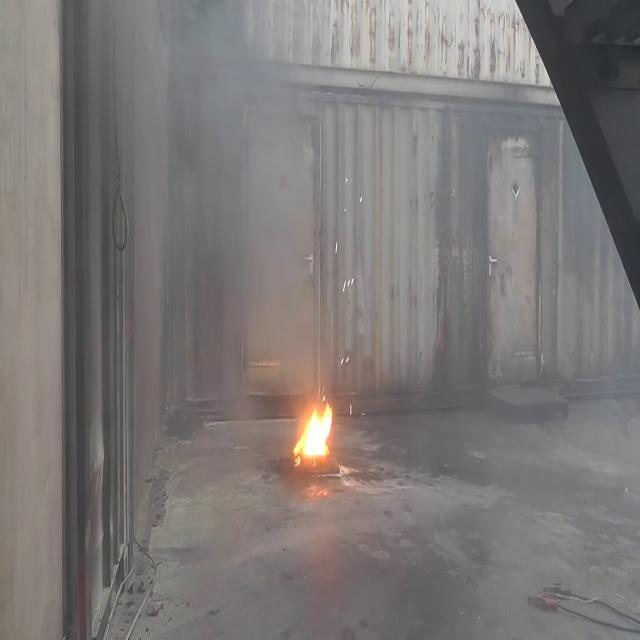Fire: (296, 391, 334, 467)
Smoke: (130, 2, 342, 430), (0, 1, 62, 636)
